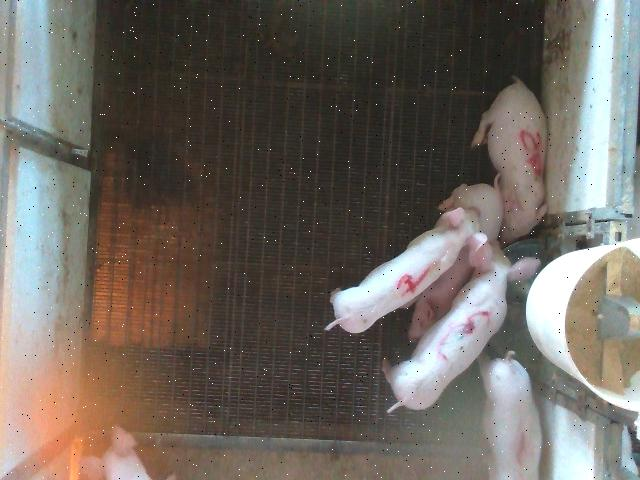pig-1: (479, 351, 539, 478)
pig-3: (384, 243, 540, 410)
pig-4: (325, 208, 488, 332)
pig-5: (471, 76, 546, 246)
